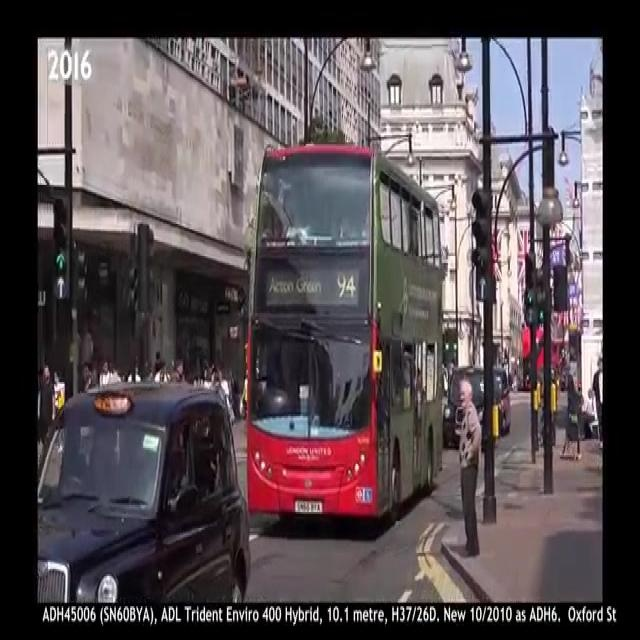Bus: (234, 156, 441, 499), (521, 313, 553, 398)
